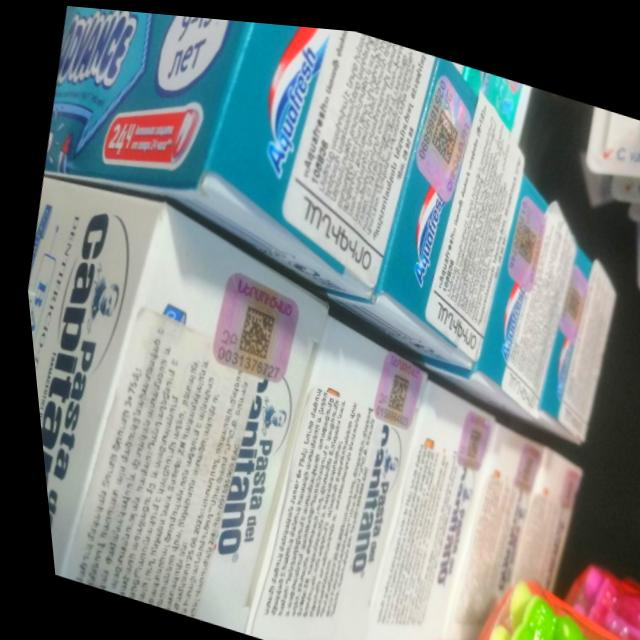datamatrix: (226, 300, 275, 361), (421, 98, 464, 159), (375, 364, 407, 410), (508, 212, 538, 260)
